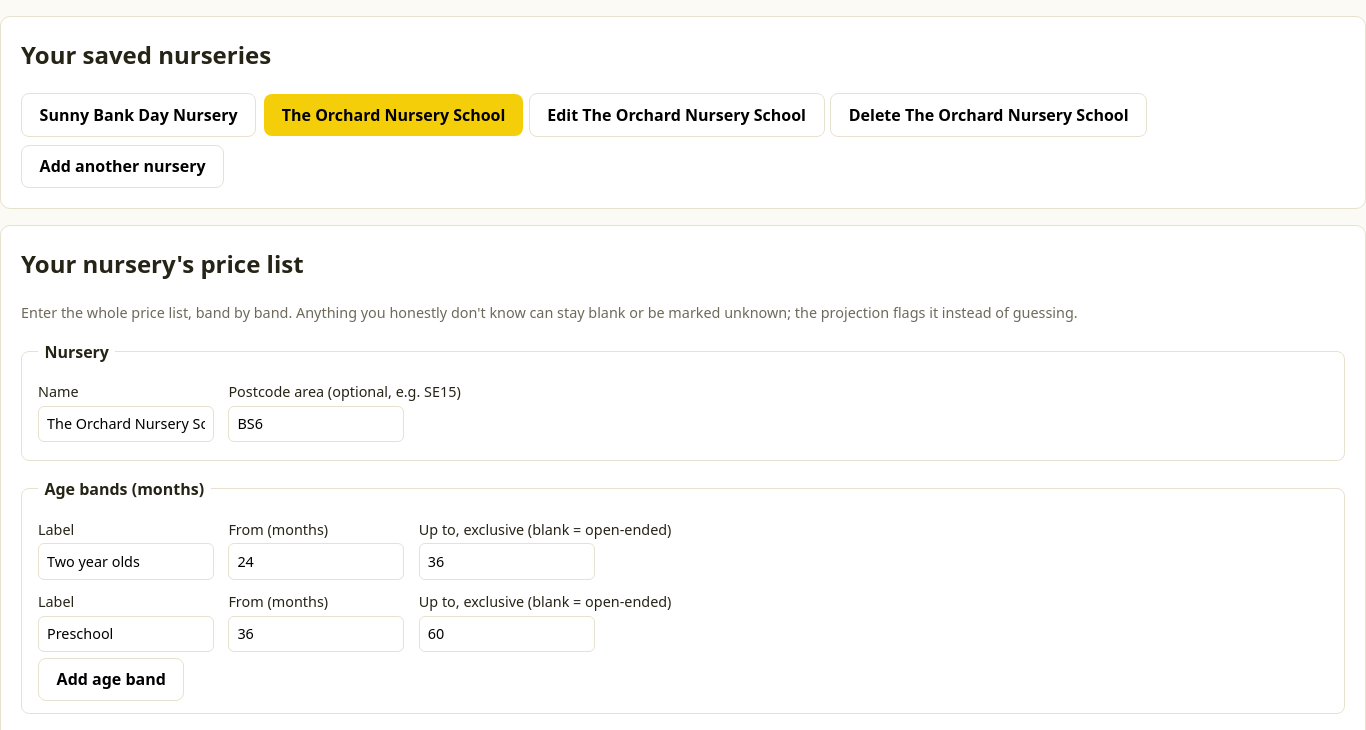
Scenario: Home nursery switching › switches the form when a different nursery is selected
Click the button "Sunny Bank Day Nursery": (139, 115) [21,93,256,136]
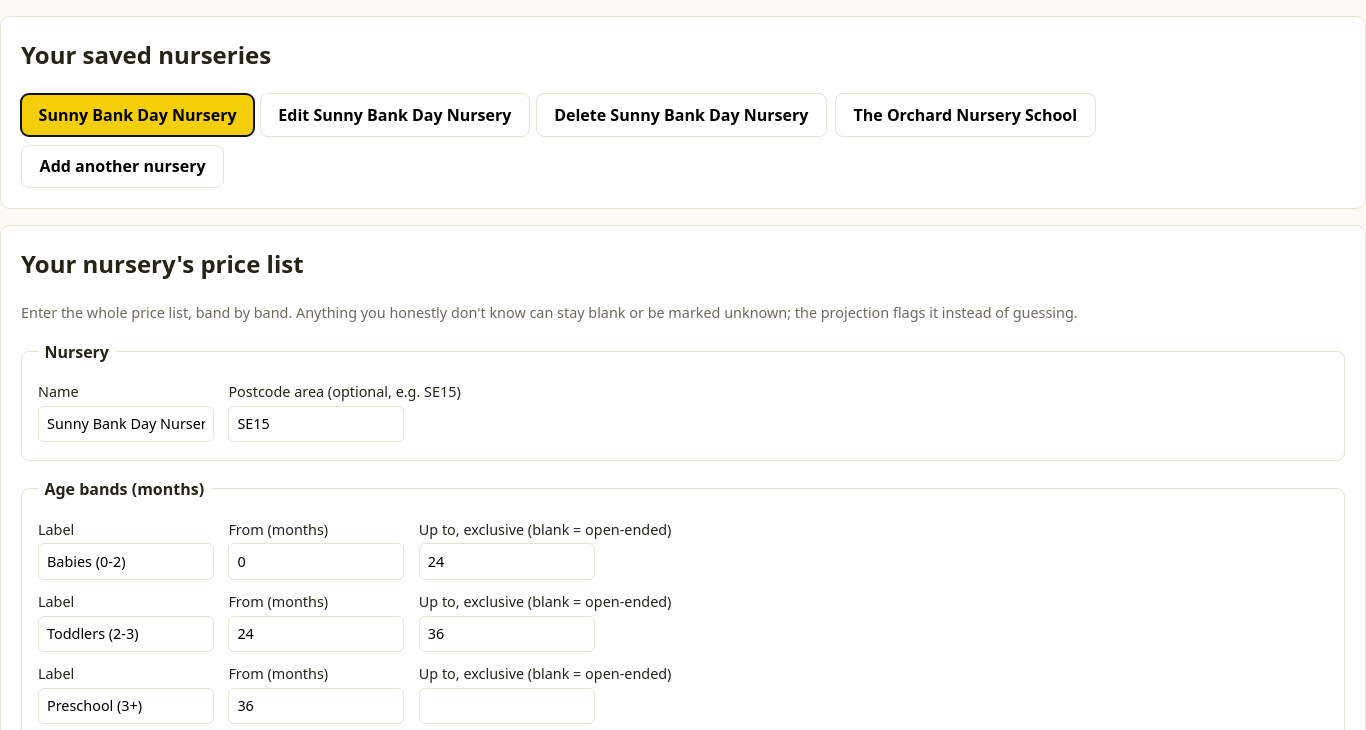
Check: the field labelled "Name" holds "Sunny Bank Day Nursery", box [38,406,214,442]
